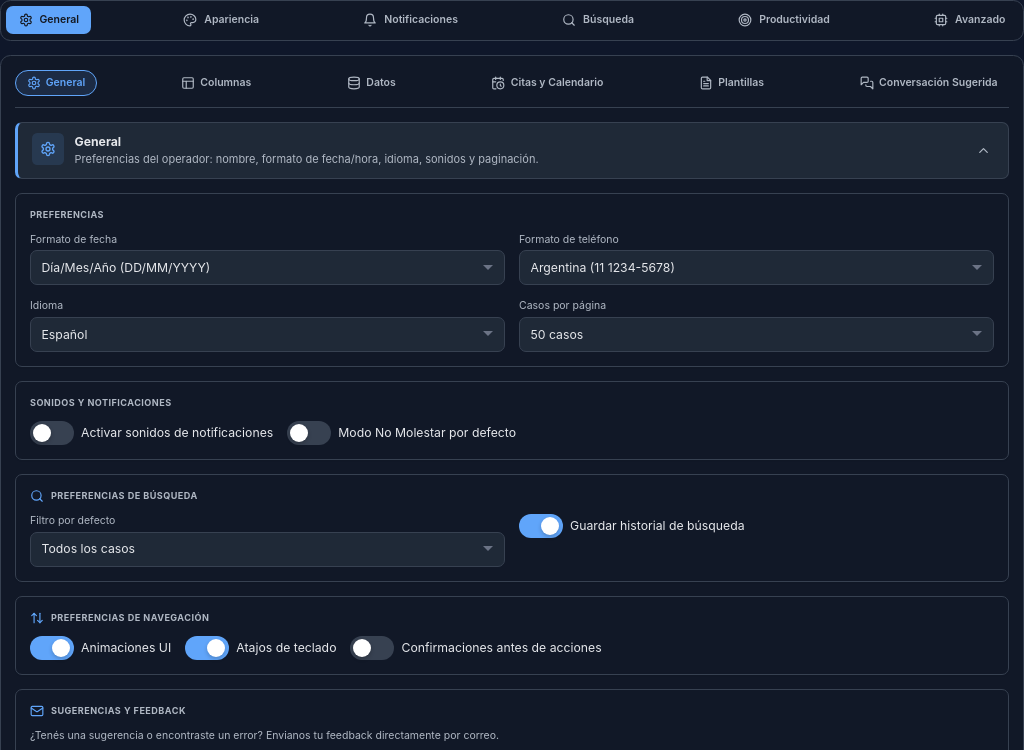
Test: ConfiguracionView › UX/Navegación queda en el grupo Apariencia y no en Avanzado
Click the button "Apariencia" at (221, 20), box [171, 6, 271, 34]
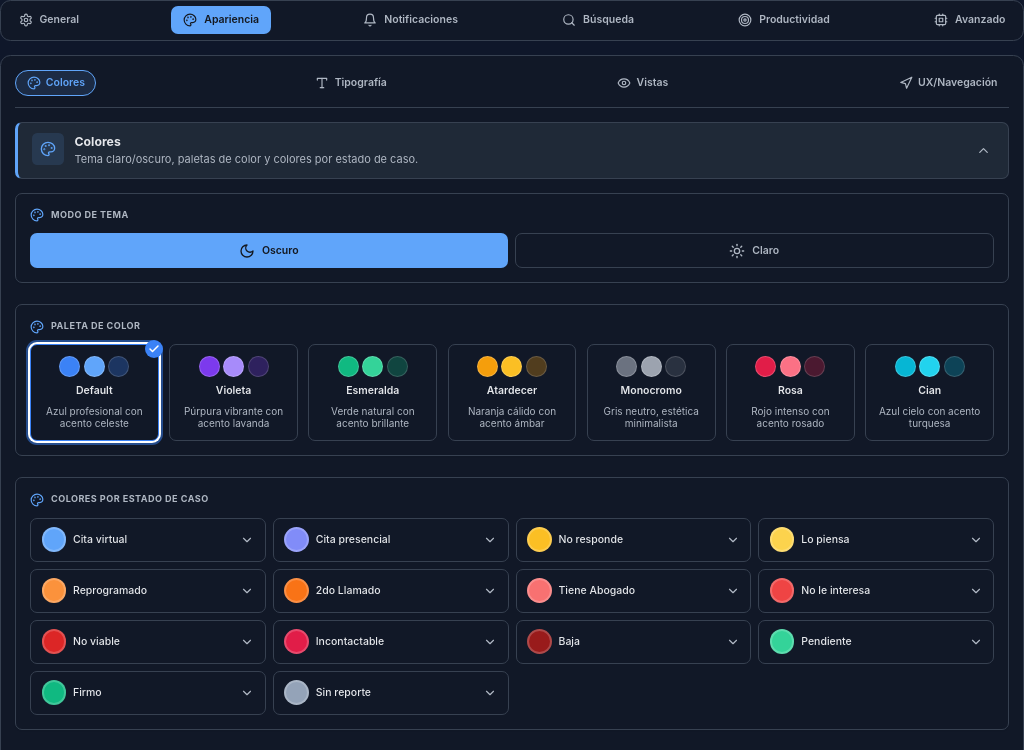
Expected: the button "UX/Navegación" is shown, [887, 70, 1009, 96]
Click the button "Avanzado" at (970, 20), box [922, 6, 1018, 34]
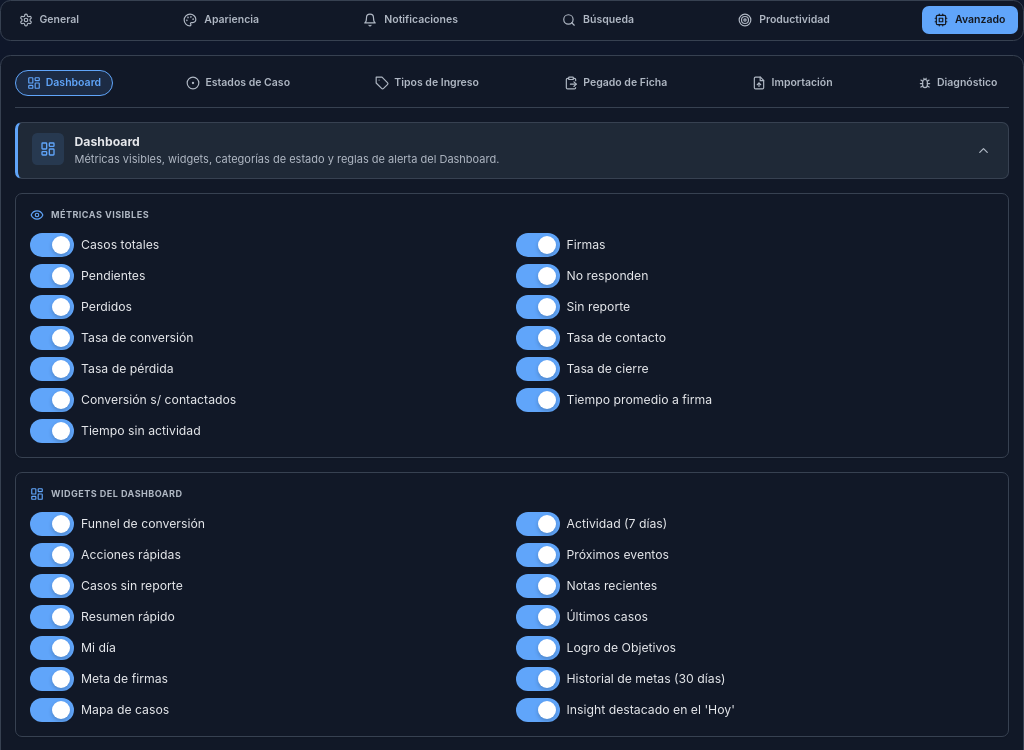
Expected: the button "UX/Navegación" is gone
Expected: the button "Pegado de Ficha" is shown, [552, 70, 679, 96]
